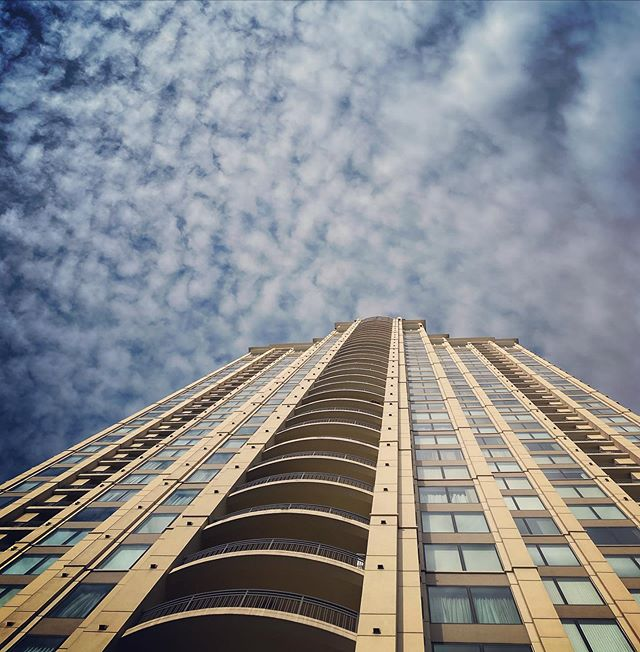building: (1, 337, 636, 652)
sky: (1, 1, 633, 388)
